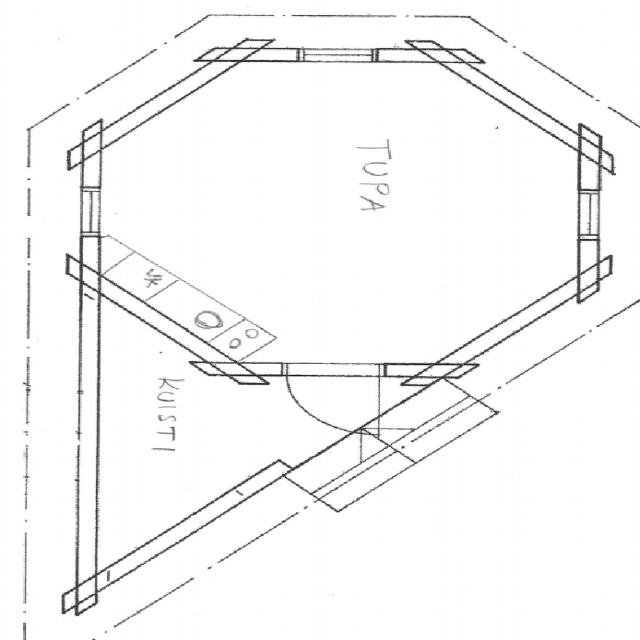door: (287, 364, 380, 434)
